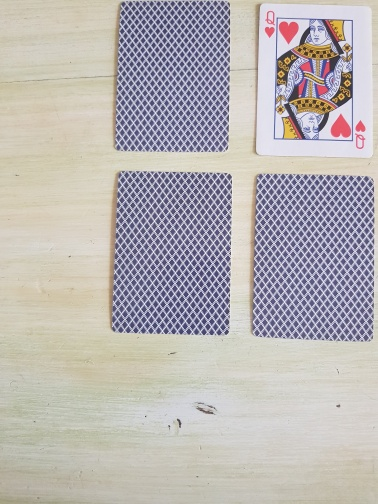queen: (253, 3, 377, 159)
